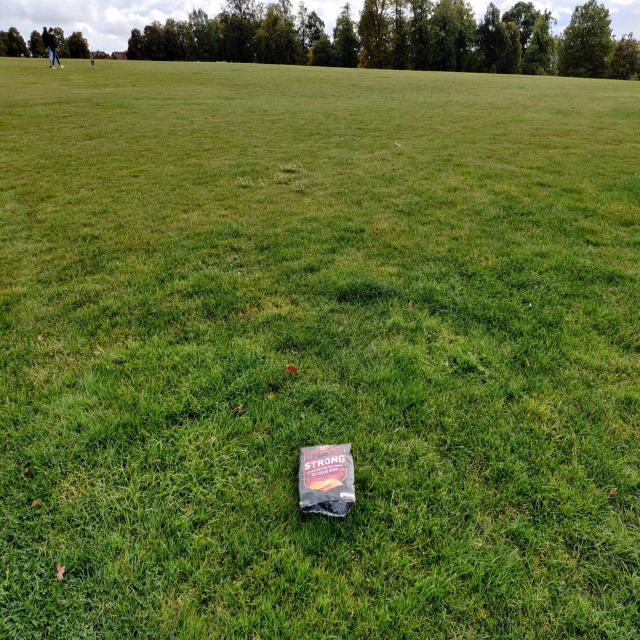litter: (298, 446, 356, 512)
